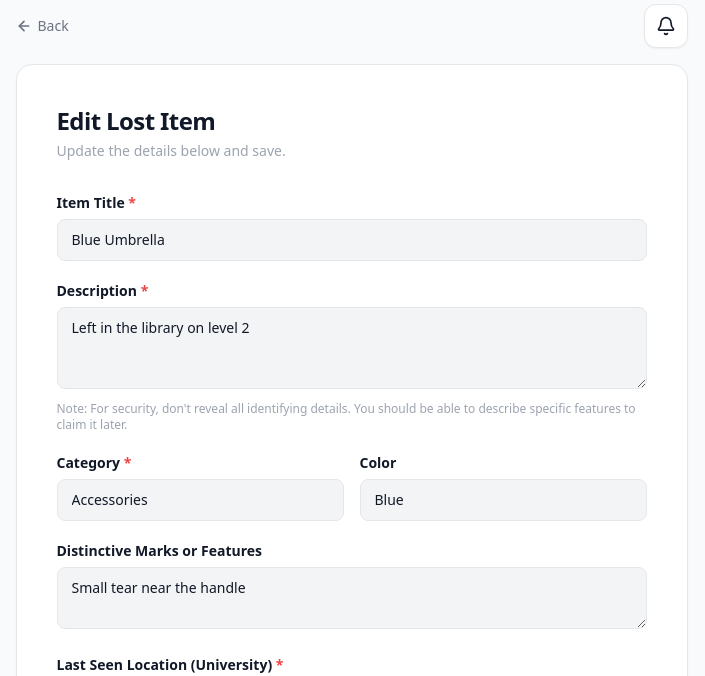
Test: ReportLostItemPage — edit mode › shows a validation error when the description is cleared
This screenshot has width=705, height=676.
Clear the text box showing "Left in the library on level 2" below "Description" at (352,348), box [56,307,646,389]
(page scrolled)
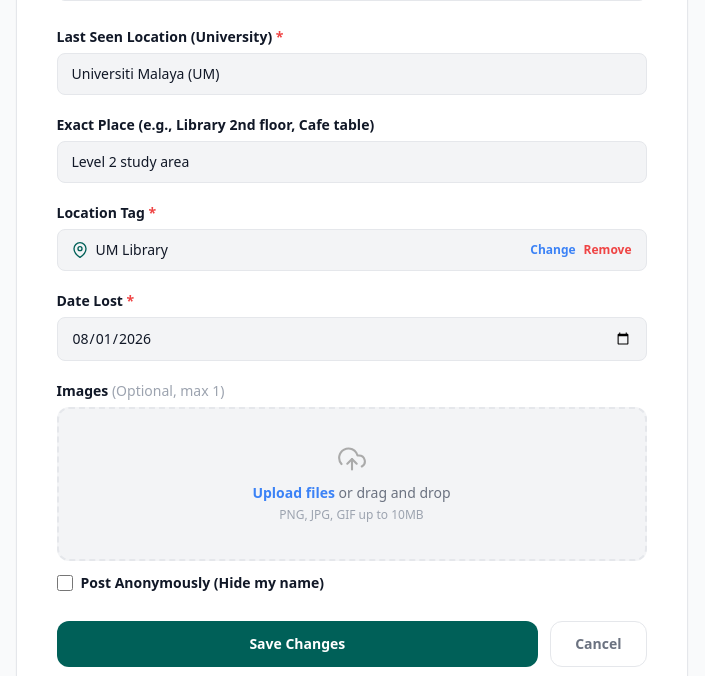
Click the button "Save Changes" at (297,644), box [56,621,538,667]
(page scrolled)
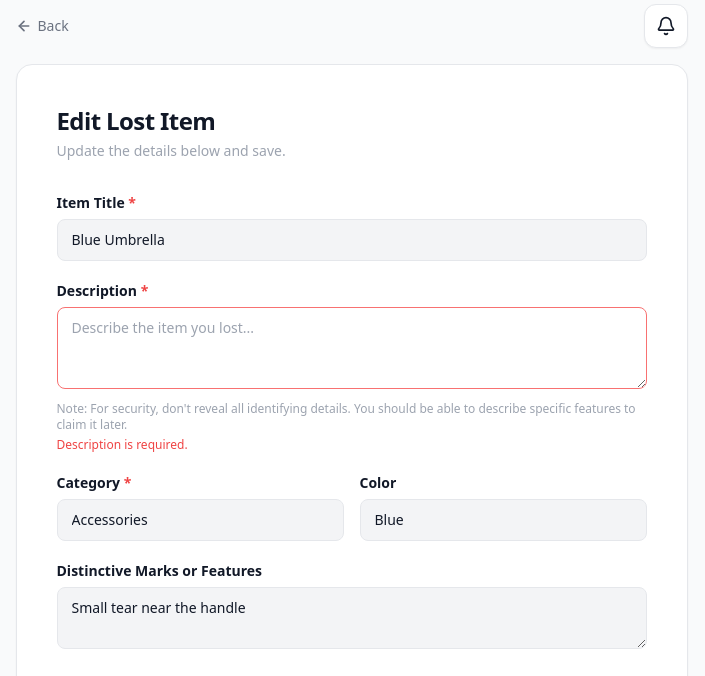
Now the text "Description is required." is shown, box [56,436,188,453]
